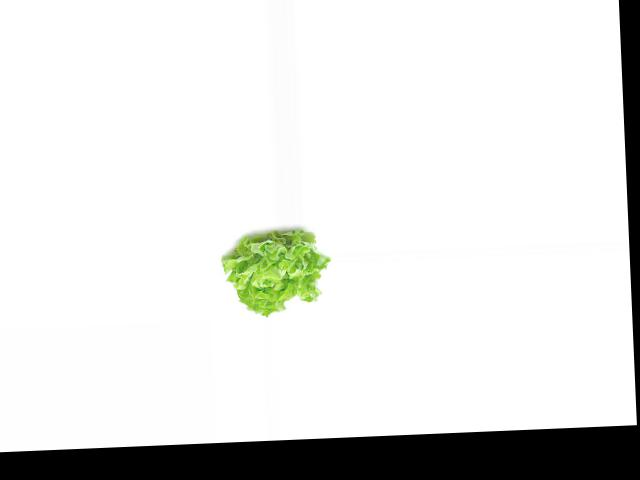lettuce: (222, 225, 331, 318)
